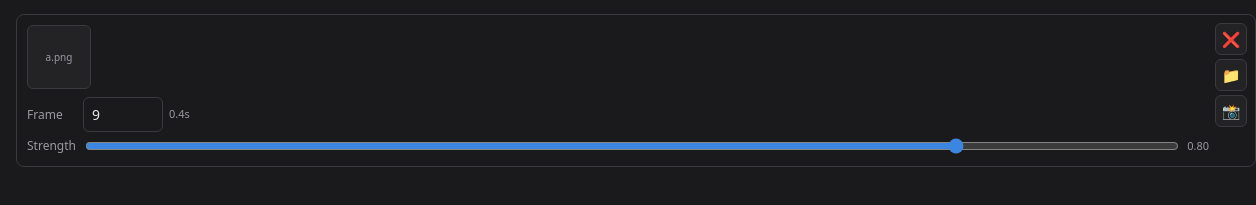
Test case: KeyframeCard › resolves a collision by sliding forward to the next free grid position, and commits on blur
Replace the text in the number field labelled "Frame 0.4s" with "20" at (123, 114), box [83,97,163,132]
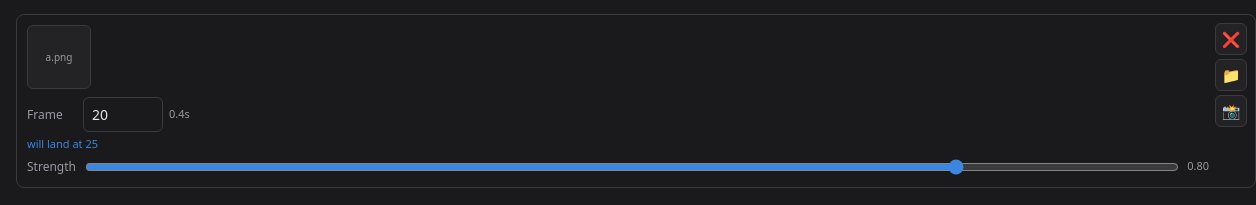
Expected: the text "will land at 25" is shown, [27,136,98,151]
Leave the number field labelled "Frame 0.4s", box [83,97,163,132]
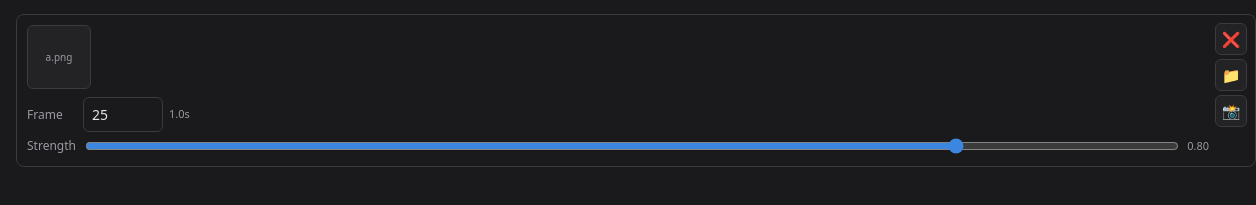
Expected: the number field labelled "Frame 1.0s" holds "25", [83,97,163,132]
